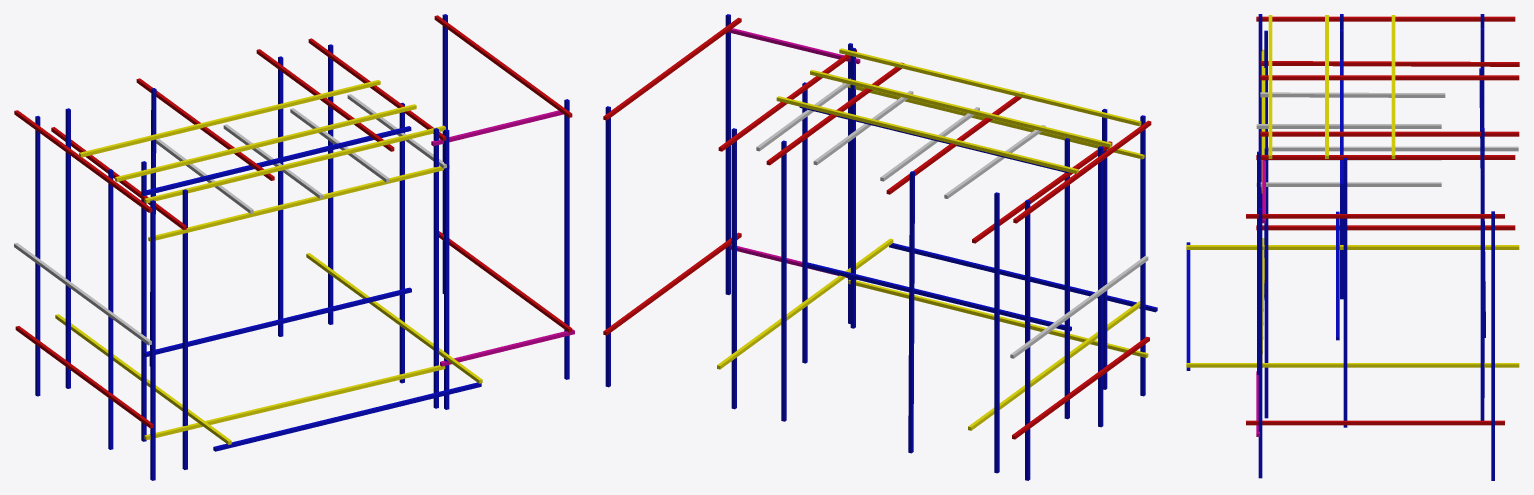
The model's file is saved.obj.
3 views of the same model, side by side, from view 1: azimuth 30°, elevation 25°; view 2: azimuth 150°, elevation 25°; view 3: azimuth 270°, elevation 25° (orthographic). The views are drawn at different scales.
Visible parts, largest first — view 1: 立方体.050_立方体.096, 立方体.060_立方体.105, 立方体.051_立方体.097, 立方体.053_立方体.098, 立方体.054_立方体.099, 立方体.034_立方体.065, 立方体.040_立方体.071, 立方体.048_立方体.079, 立方体.023_立方体.053, 立方体.045_立方体.076, 立方体.044_立方体.075, 立方体.036_立方体.067 (+26 smaller); view 2: 立方体.051_立方体.097, 立方体.060_立方体.105, 立方体.050_立方体.096, 立方体.044_立方体.075, 立方体.061_立方体.106, 立方体.035_立方体.066, 立方体.047_立方体.078, 立方体.046_立方体.077, 立方体.043_立方体.074, 立方体.037_立方体.068, 立方体.023_立方体.053, 立方体.034_立方体.065 (+25 smaller); view 3: 立方体.052_立方体.084, 立方体.049_立方体.095, 立方体.064_立方体.109, 立方体.062_立方体.107, 立方体.006_立方体.043, 立方体.059_立方体.104, 立方体.020_立方体.049, 立方体.001, 立方体.019_立方体.047, 立方体.023_立方体.053, 立方体.046_立方体.077, 立方体.026_立方体.059 (+19 smaller).
Part boxes in pixels (x1,y1,x2,y2): 立方体.050_立方体.096: [115, 104, 416, 181]; 立方体.060_立方体.105: [79, 80, 380, 157]; 立方体.051_立方体.097: [144, 125, 445, 203]; 立方体.053_立方体.098: [144, 365, 445, 440]; 立方体.054_立方体.099: [148, 165, 449, 241]; 立方体.034_立方体.065: [150, 200, 155, 480]; 立方体.040_立方体.071: [182, 189, 187, 469]; 立方体.048_立方体.079: [213, 382, 481, 451]; 立方体.023_立方体.053: [564, 99, 569, 379]; 立方体.045_立方体.076: [433, 128, 438, 408]; 立方体.044_立方体.075: [65, 108, 70, 388]; 立方体.036_立方体.067: [444, 129, 449, 409]; 立方体.051_立方体.097: [839, 48, 1141, 126]; 立方体.060_立方体.105: [776, 96, 1078, 173]; 立方体.050_立方体.096: [810, 70, 1111, 147]; 立方体.044_立方体.075: [994, 192, 999, 473]; 立方体.061_立方体.106: [908, 171, 914, 453]; 立方体.035_立方体.066: [781, 140, 786, 421]; 立方体.047_立方体.078: [605, 106, 610, 387]; 立方体.046_立方体.077: [731, 128, 736, 409]; 立方体.043_立方体.074: [1098, 146, 1103, 427]; 立方体.037_立方体.068: [1025, 200, 1030, 480]; 立方体.023_立方体.053: [725, 14, 730, 294]; 立方体.034_立方体.065: [1140, 115, 1145, 396]; 立方体.052_立方体.084: [1186, 363, 1519, 367]; 立方体.049_立方体.095: [1186, 245, 1519, 249]; 立方体.064_立方体.109: [1246, 420, 1504, 425]; 立方体.062_立方体.107: [1260, 75, 1519, 80]; 立方体.006_立方体.043: [1260, 131, 1519, 136]; 立方体.059_立方体.104: [1256, 16, 1515, 21]; 立方体.020_立方体.049: [1256, 225, 1515, 230]; 立方体.001: [1268, 146, 1518, 151]; 立方体.019_立方体.047: [1260, 61, 1519, 66]; 立方体.023_立方体.053: [1258, 208, 1262, 478]; 立方体.046_立方体.077: [1480, 151, 1484, 420]; 立方体.026_立方体.059: [1343, 158, 1347, 427].
Size of the model in its own units: 12.8 by 8.18 by 9.01.
